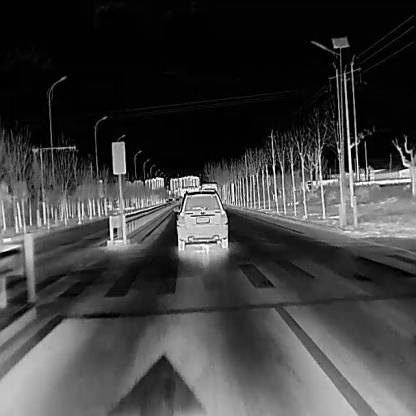car: (172, 186, 228, 250)
